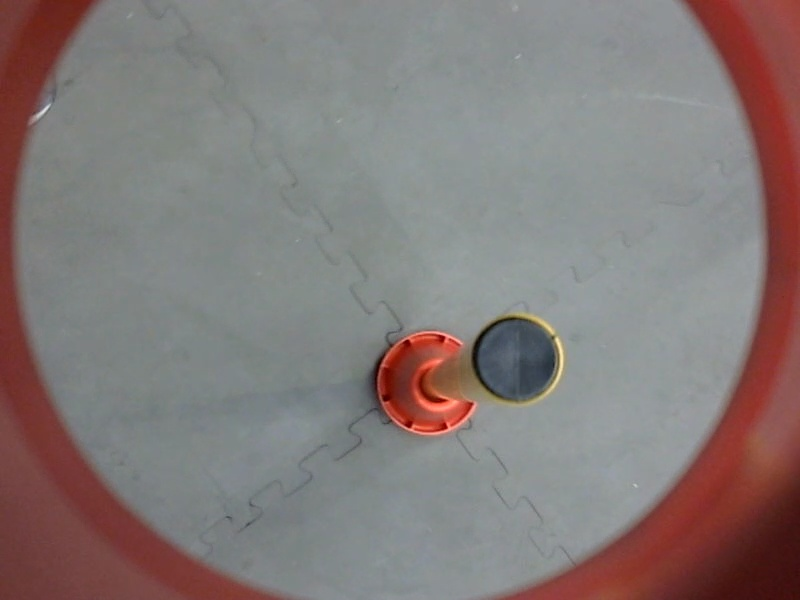tip: (468, 306, 569, 413)
